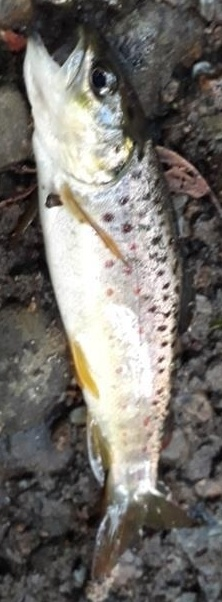Salmo trutta subsp. fario: (20, 20, 202, 582)
